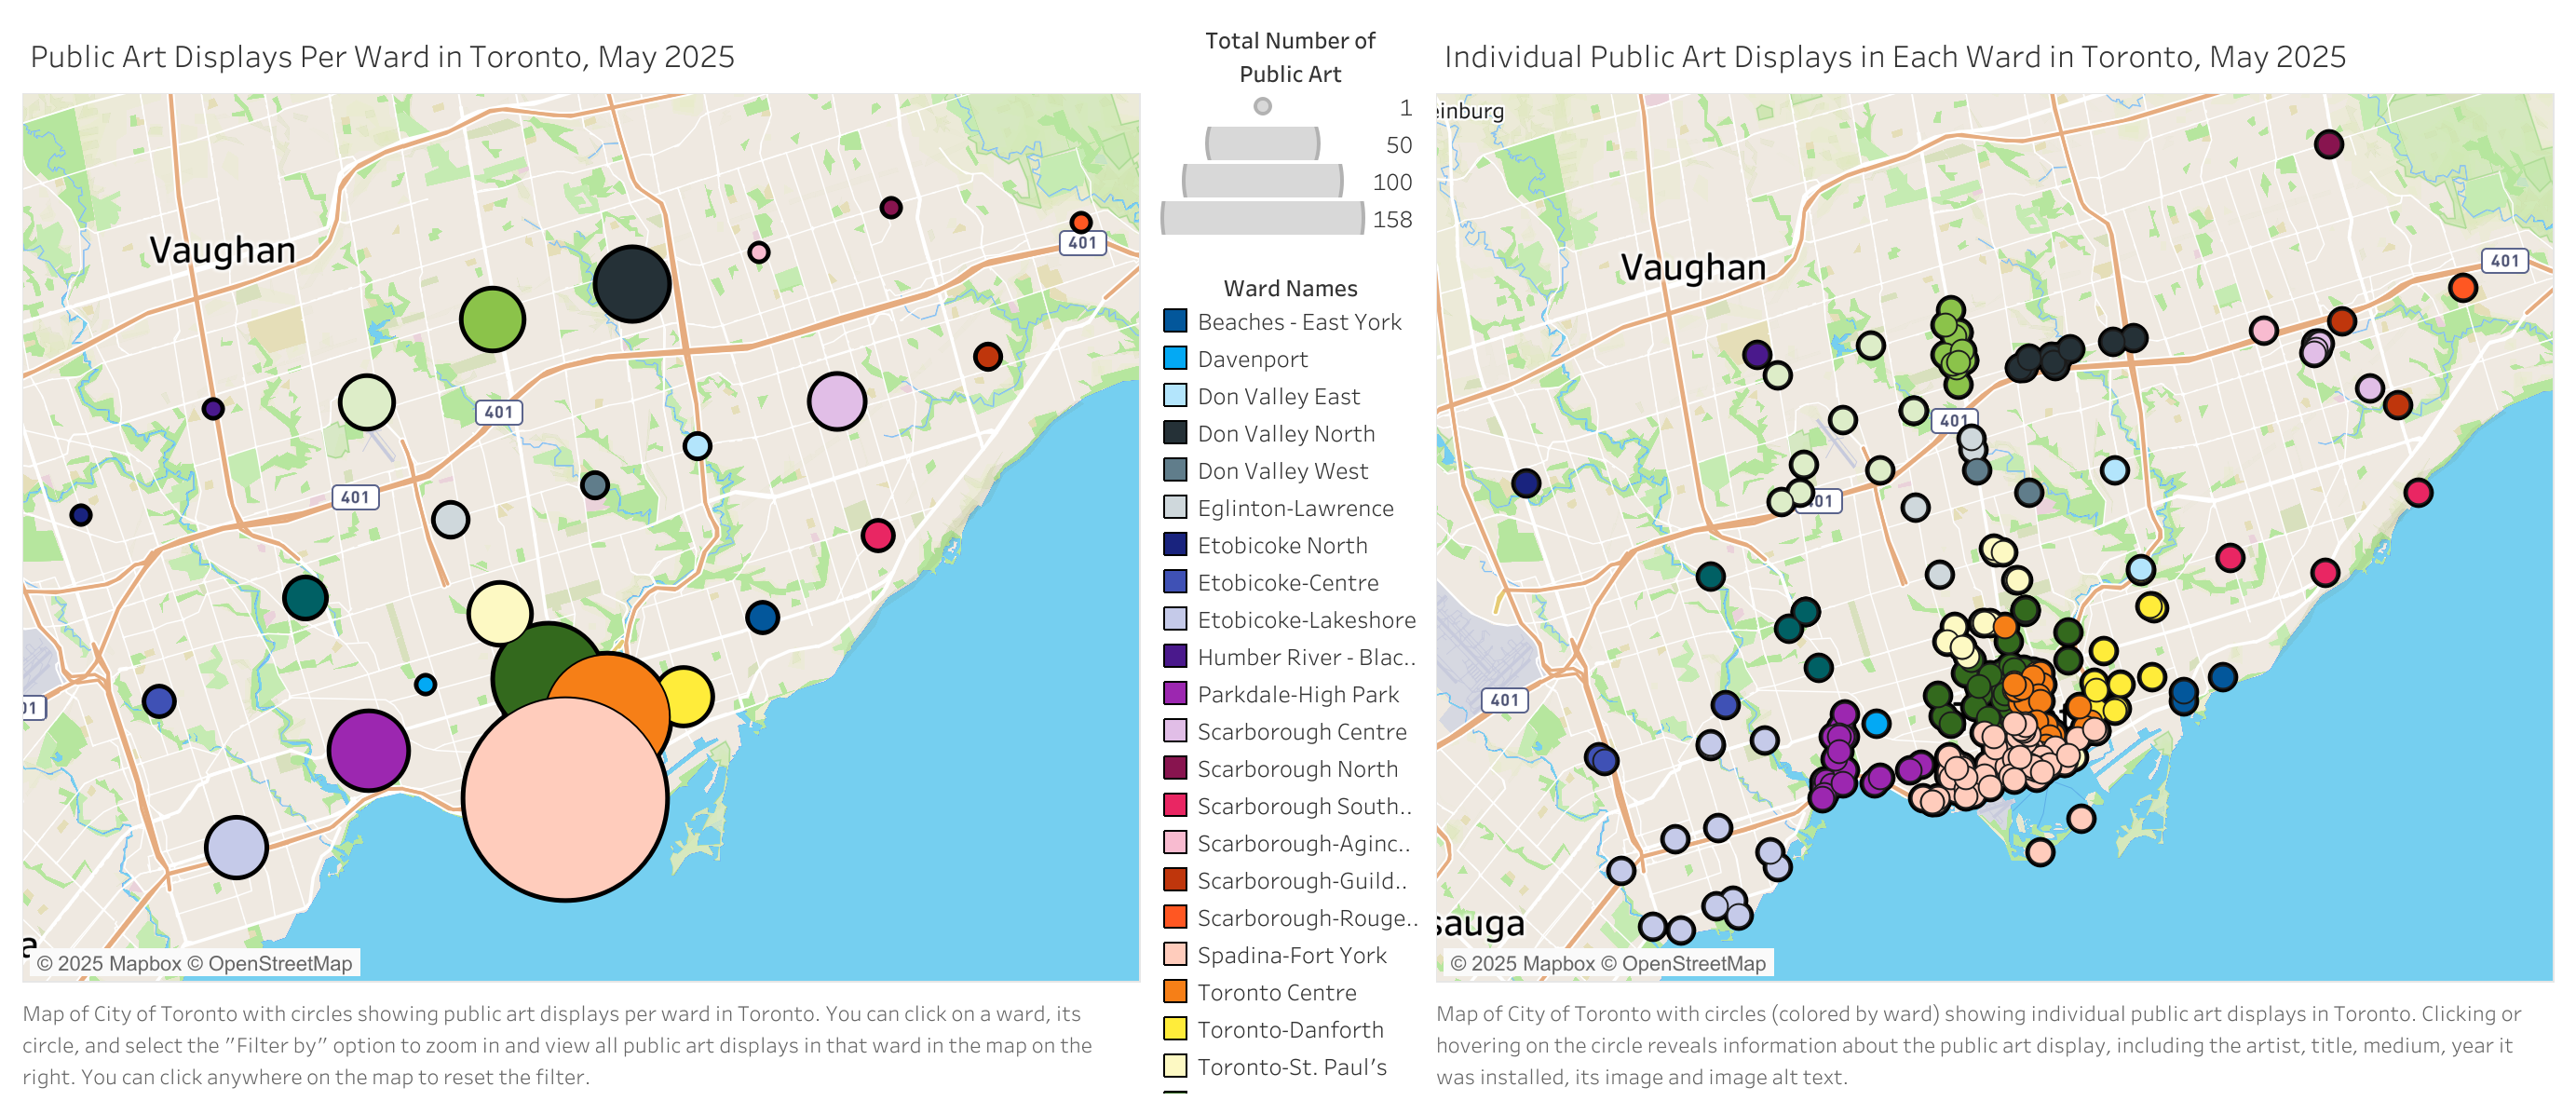

The dashboard page shown, as its layout file describes it:
{"tool":"tableau","page":{"name":"Dashboard","canvas":[1000,1000],"units":"permille","ordinal":0},"visuals":[{"type":"worksheet","title":"art_per_ward_dashboard","mark":"Automatic","rows":["Latitude"],"cols":["Longitude"],"box":[6.5,12.2,432.9,975.5]},{"type":"legend","title":"art_per_ward_dashboard","param":"[federated.0drga1m02bv1wd1ezt7pq1d8nq4p].[none:Count of Public Art:qk]","box":[439.4,12.2,121.2,200.3]},{"type":"worksheet","title":"all_art_pieces_dashboard","mark":"Circle","rows":["Lattitude"],"cols":["Longitude"],"box":[560.6,12.2,432.9,975.5]},{"type":"legend","title":"art_per_ward_dashboard","param":"[federated.0drga1m02bv1wd1ezt7pq1d8nq4p].[none:Ward Fullname:nk]","box":[439.4,212.5,121.2,775.2]}]}

Visuals, with their boxes on the dashboard's canvas, which has no fixed pixel size, in thousandths of its width and height (x1, y1, x2, y2). These are canvas units, not pixel positions in the 2576x1114 screenshot, which may show the page scaled, cropped or inside an application window:
"art_per_ward_dashboard" worksheet: 6, 12, 439, 988
"art_per_ward_dashboard" legend: 439, 12, 561, 212
"all_art_pieces_dashboard" worksheet (Circle marks): 561, 12, 994, 988
"art_per_ward_dashboard" legend: 439, 212, 561, 988
